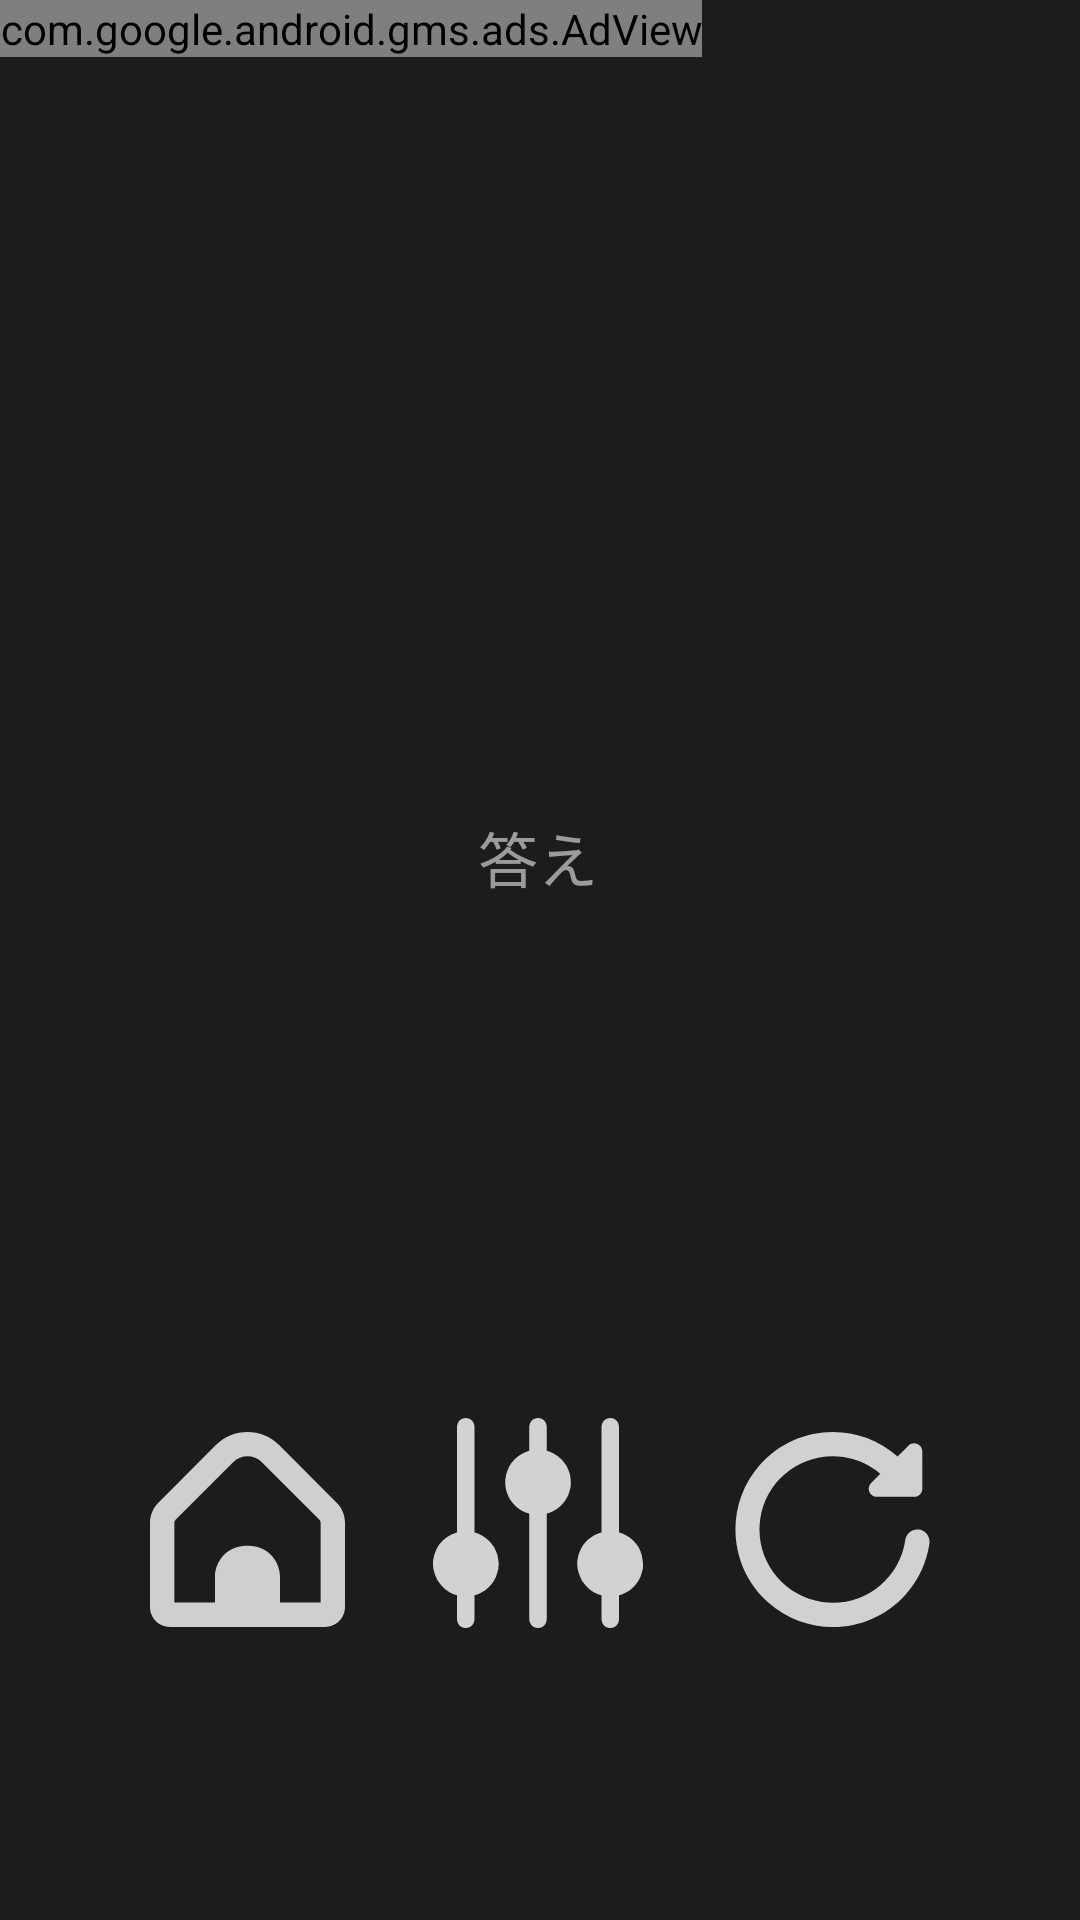

Locate icon controls on the screen. Image size 1080 x 1920, boxes as (x1, y1, x2, y2).
ホーム: (150, 1432, 345, 1627)
リトライ: (735, 1432, 930, 1627)
